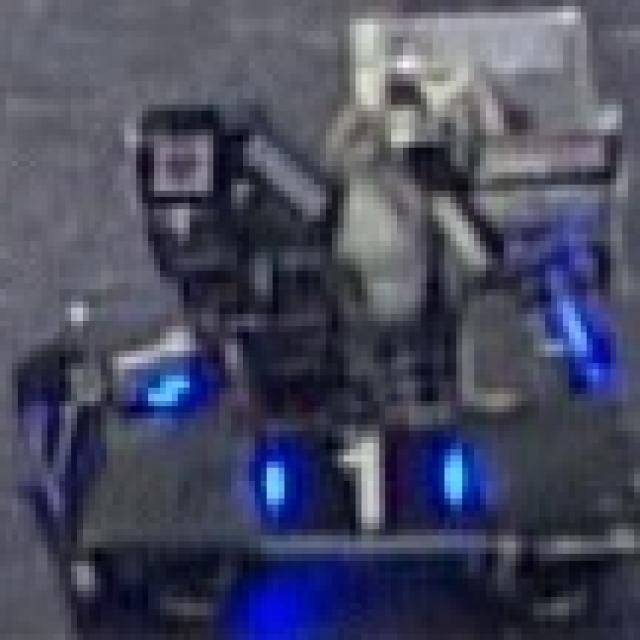B1: (261, 431, 462, 529)
